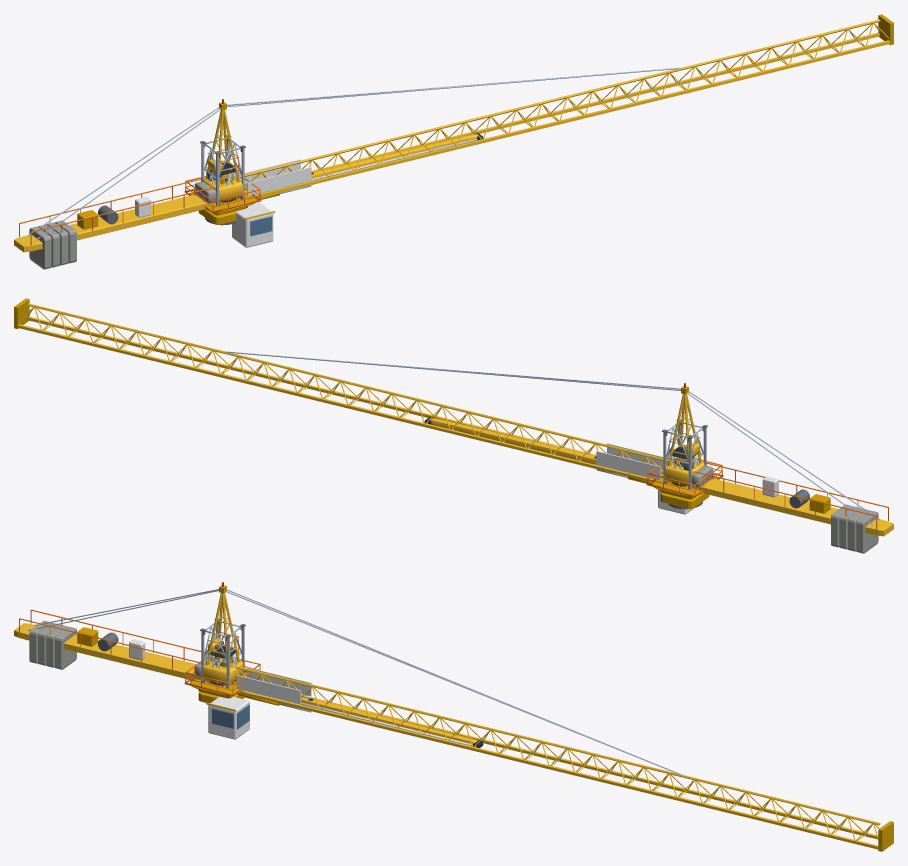
Rendered from towers.glb.
3 renders of one model, top to bottom at view 1: azimuth 30°, elevation 25°; view 2: azimuth 150°, elevation 25°; view 3: azimuth 330°, elevation 25°, orthographic.
Visible parts, largest first — view 1: CraneSlew, BoomArm1, BoomTurret, BoomCollar; view 2: CraneSlew, BoomArm1, BoomTurret, BoomCollar; view 3: CraneSlew, BoomArm1, BoomTurret, BoomCollar.
Boxes of the visible parts, x1,y1,x2,y2 form: CraneSlew: (14, 14, 893, 269); BoomArm1: (244, 132, 483, 200); BoomTurret: (195, 170, 242, 203); BoomCollar: (184, 176, 261, 215); CraneSlew: (14, 298, 893, 553); BoomArm1: (424, 416, 663, 484); BoomTurret: (665, 457, 712, 487); BoomCollar: (646, 459, 723, 499); CraneSlew: (14, 582, 893, 851); BoomArm1: (233, 682, 483, 747); BoomTurret: (195, 656, 243, 685); BoomCollar: (184, 658, 260, 698).
Bounding box in the file's own units: 68.15 × 10.24 × 4.57.
